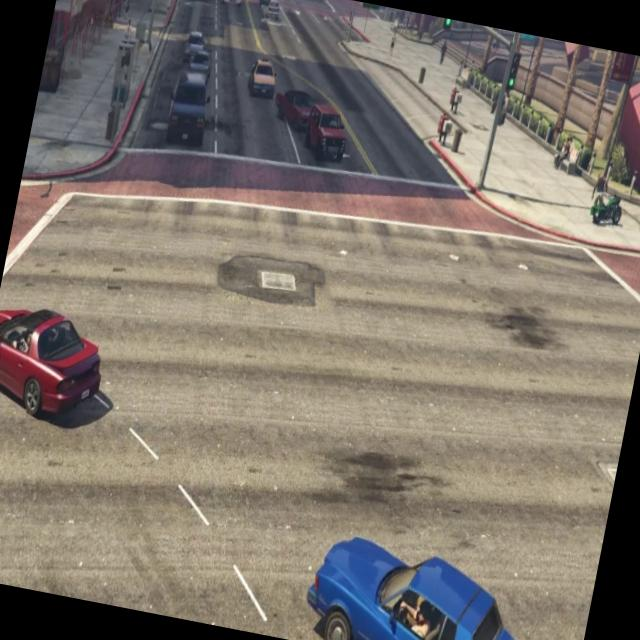Green-Signal: (502, 44, 526, 104), (438, 18, 457, 42), (358, 2, 383, 18)
